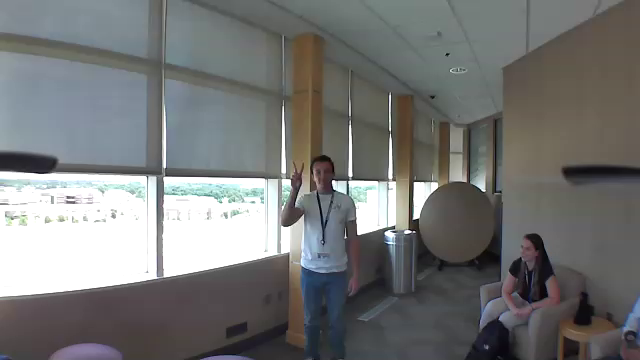peace: (283, 155, 307, 195)
